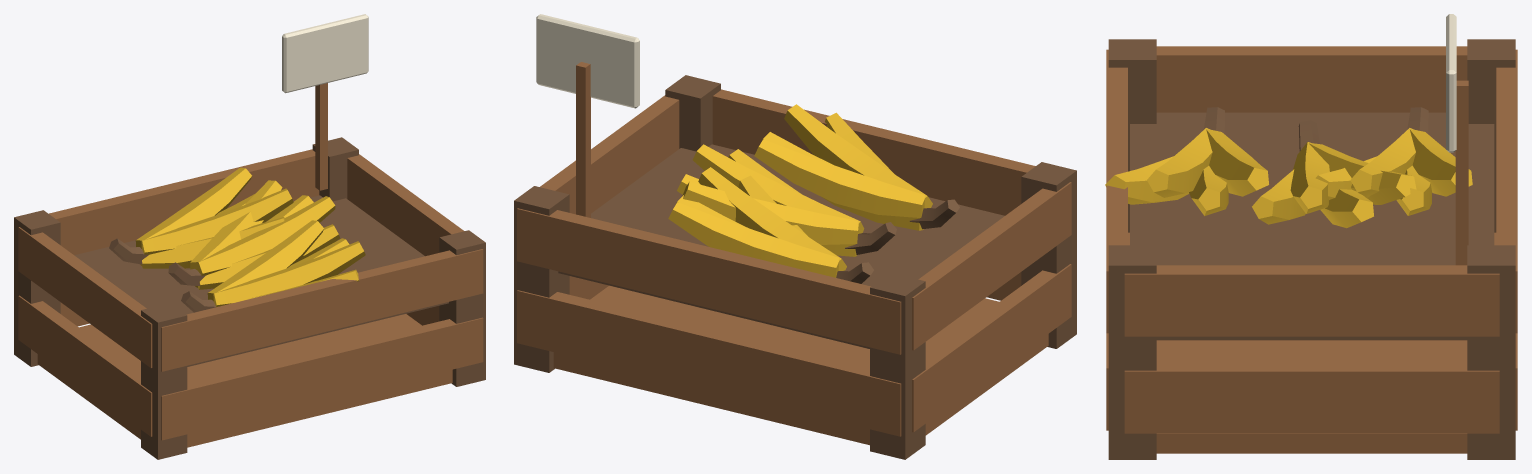
Rendered from crate_bananas.glb.
3 renders of one model, left to right at view 1: azimuth 30°, elevation 25°; view 2: azimuth 150°, elevation 25°; view 3: azimuth 270°, elevation 25°, orthographic. The views are drawn at different scales.
Visible parts, largest first — view 1: crate_bananas; view 2: crate_bananas; view 3: crate_bananas.
Boxes of the visible parts, x1,y1,x2,y2 form: crate_bananas: (14,14,485,459); crate_bananas: (514,14,1076,459); crate_bananas: (1105,14,1517,459).
Bounding box in the file's own units: 0.507 × 0.4025 × 0.3852.
